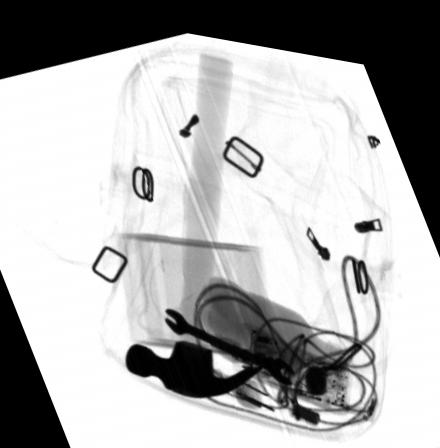Hammer: (126, 44, 261, 392)
Wrench: (163, 303, 295, 373)
